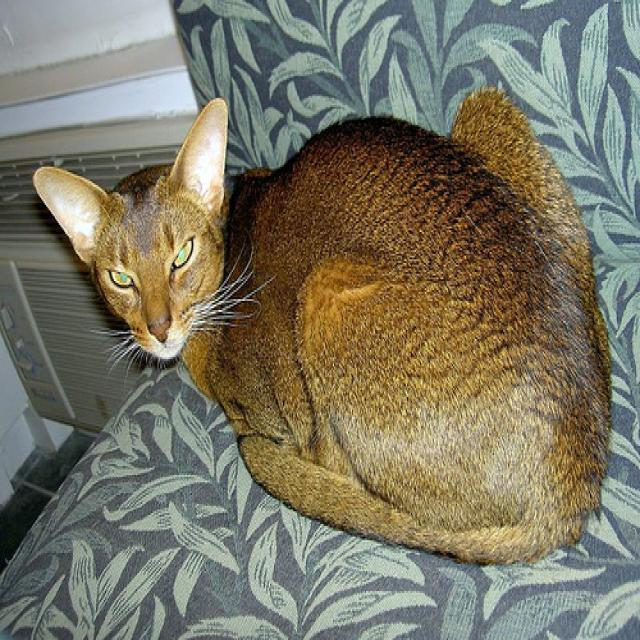Abyssinian: (30, 94, 226, 357)
